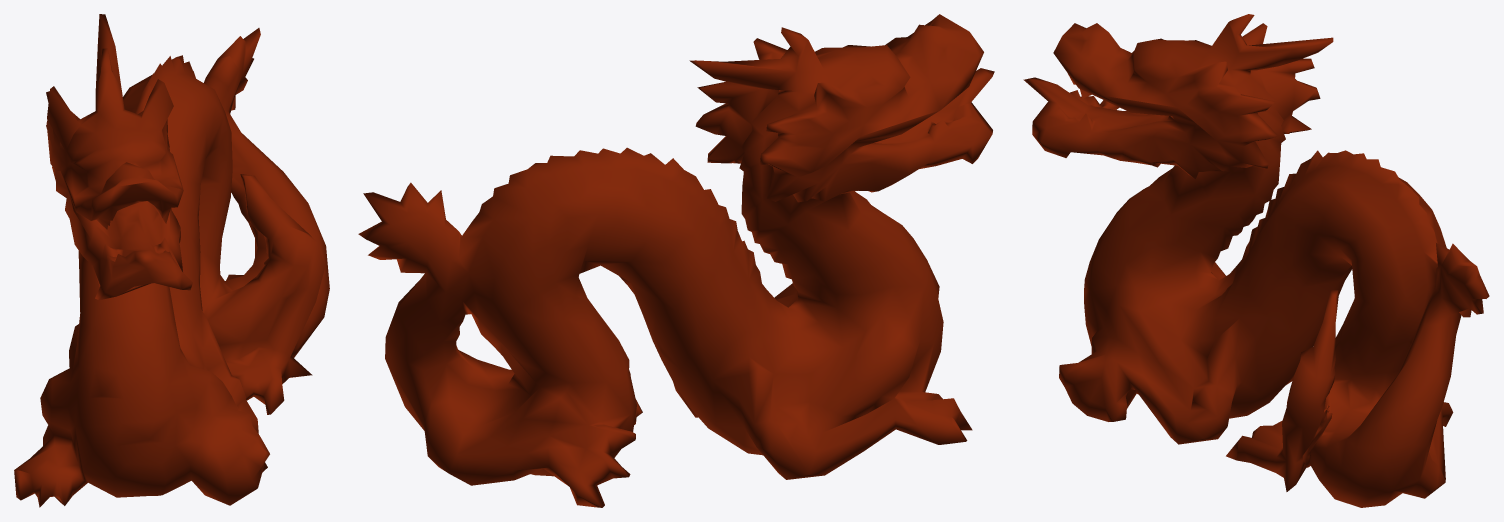
The model's file is 3k_dragon.obj.
3 renders of one model, left to right at view 1: azimuth 30°, elevation 25°; view 2: azimuth 150°, elevation 25°; view 3: azimuth 270°, elevation 25°, orthographic. The views are drawn at different scales.
Visible parts, largest first — view 1: dragon; view 2: dragon; view 3: dragon.
Boxes of the visible parts, <box> form: dragon: <box>14,14,329,507</box>; dragon: <box>358,14,994,507</box>; dragon: <box>1023,14,1489,507</box>.
Bounding box in the file's own units: 1.09 × 0.9946 × 1.1.
